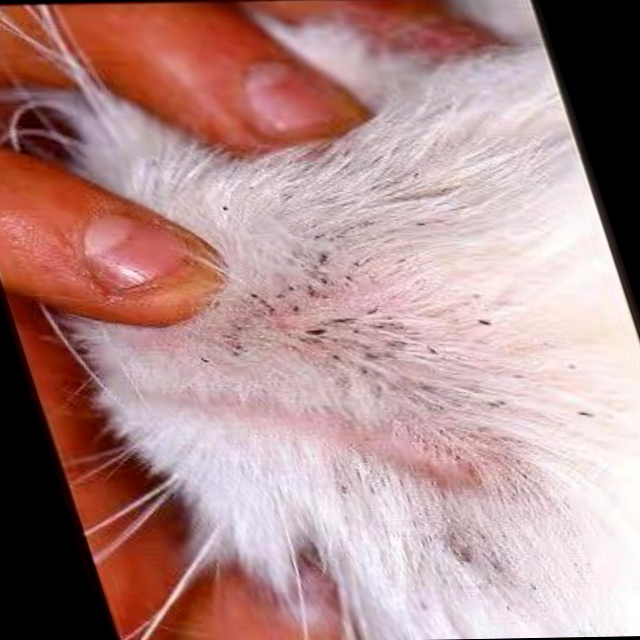acne: (157, 286, 605, 431)
